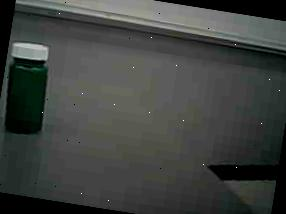Bottle C: (0, 33, 68, 145)
